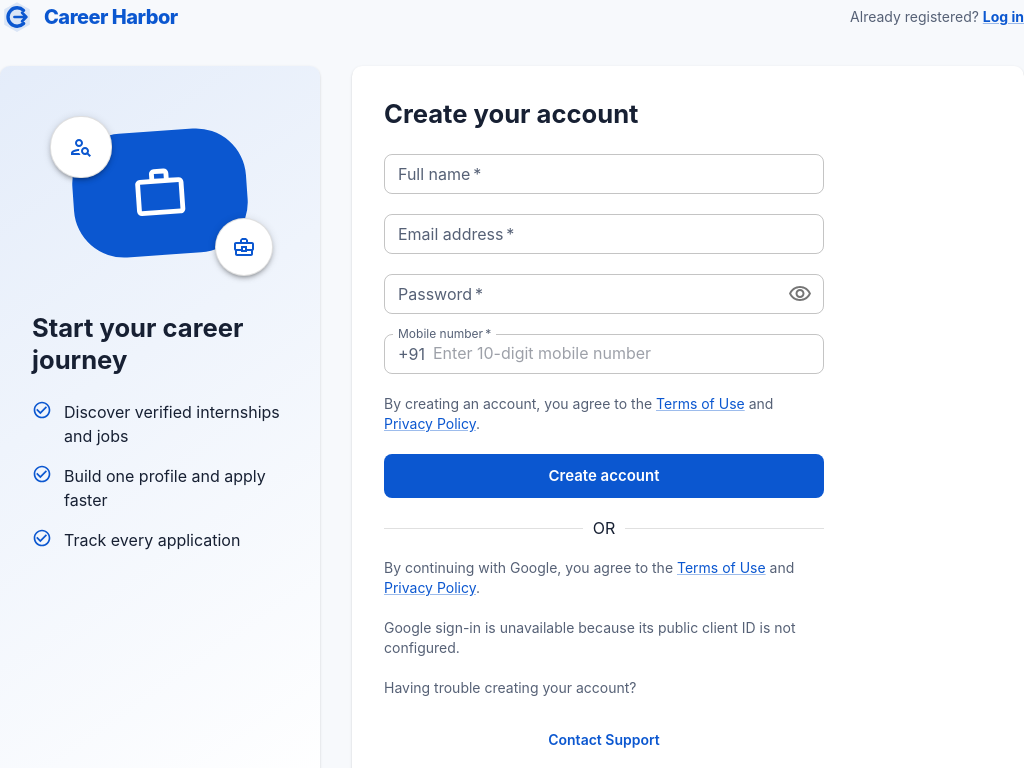
it: Career snapshot account transitions › uses returned email registration authentication, required=true, without a second login
Type "Avery Patel" into the field labelled "Full name *" at (604, 174), box [384, 154, 824, 194]
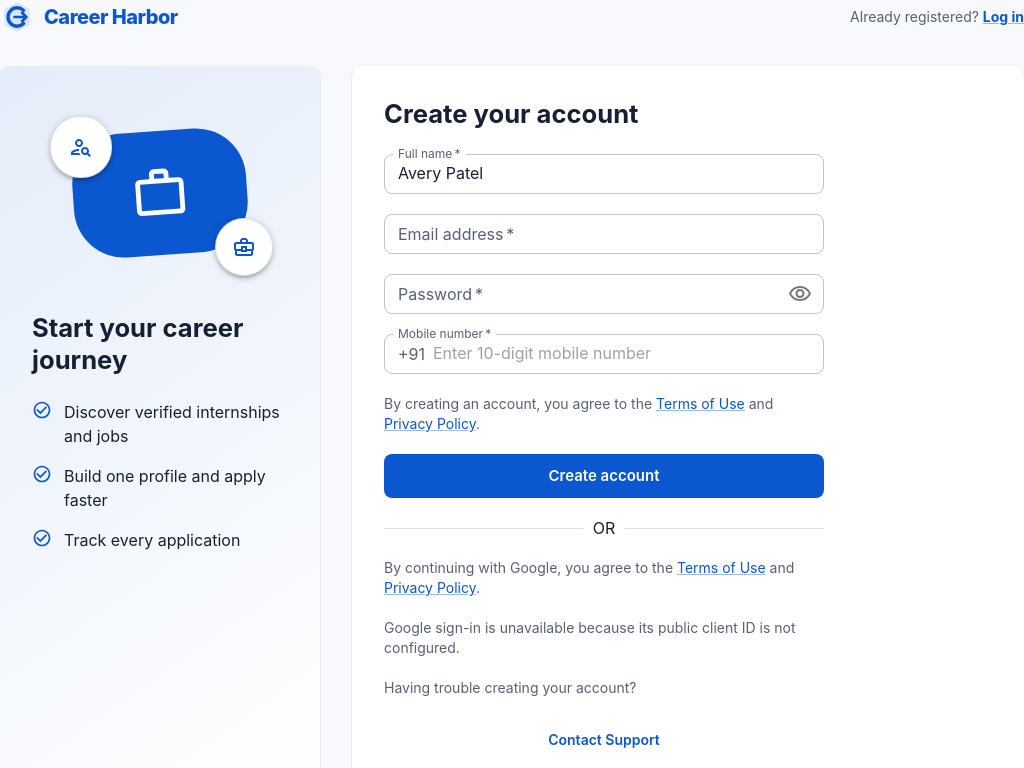
Type "candidate@example.com" into the field labelled "Email address *" at (604, 234), box [384, 214, 824, 254]
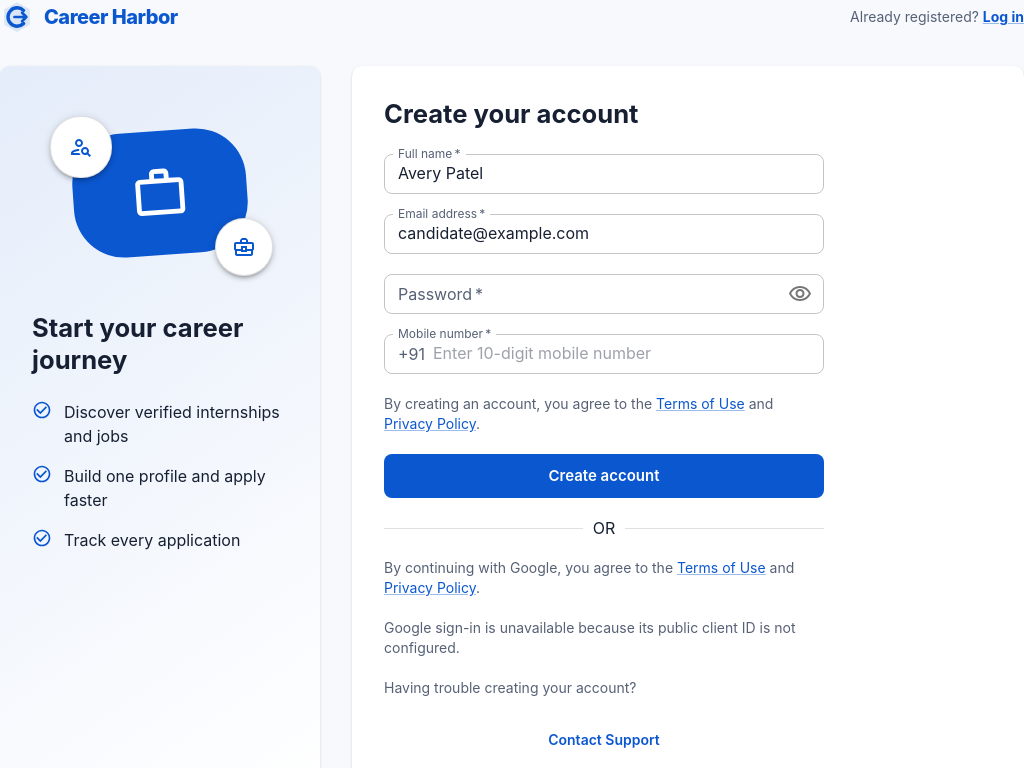
Type "Secure123!" into the password field labelled "Password *" at (577, 294), box [384, 274, 770, 314]
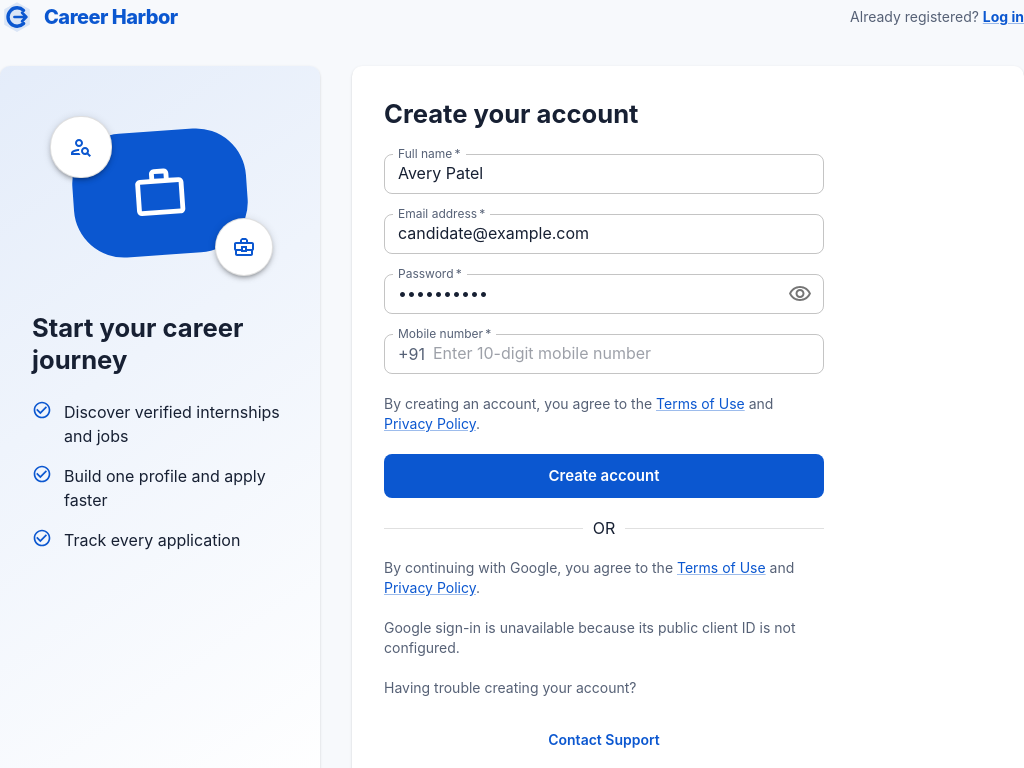
Type "9876543210" into the field labelled "Mobile number *" at (628, 354), box [433, 334, 824, 374]
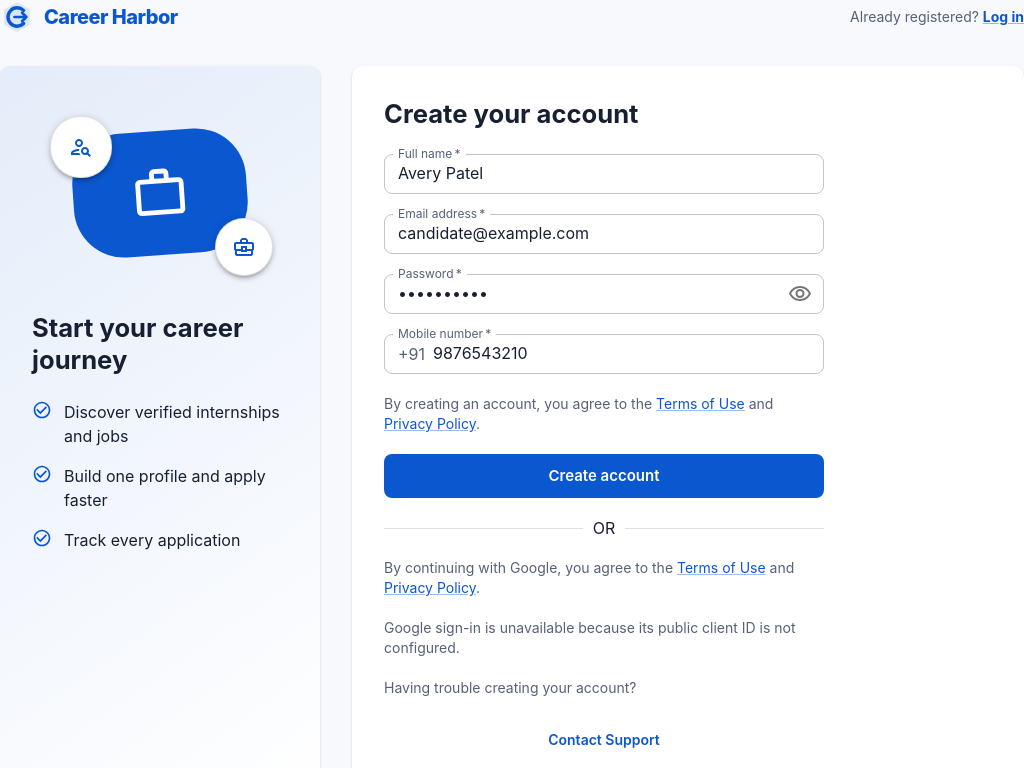
Click the button "Create account" at (604, 476), box [384, 454, 824, 498]
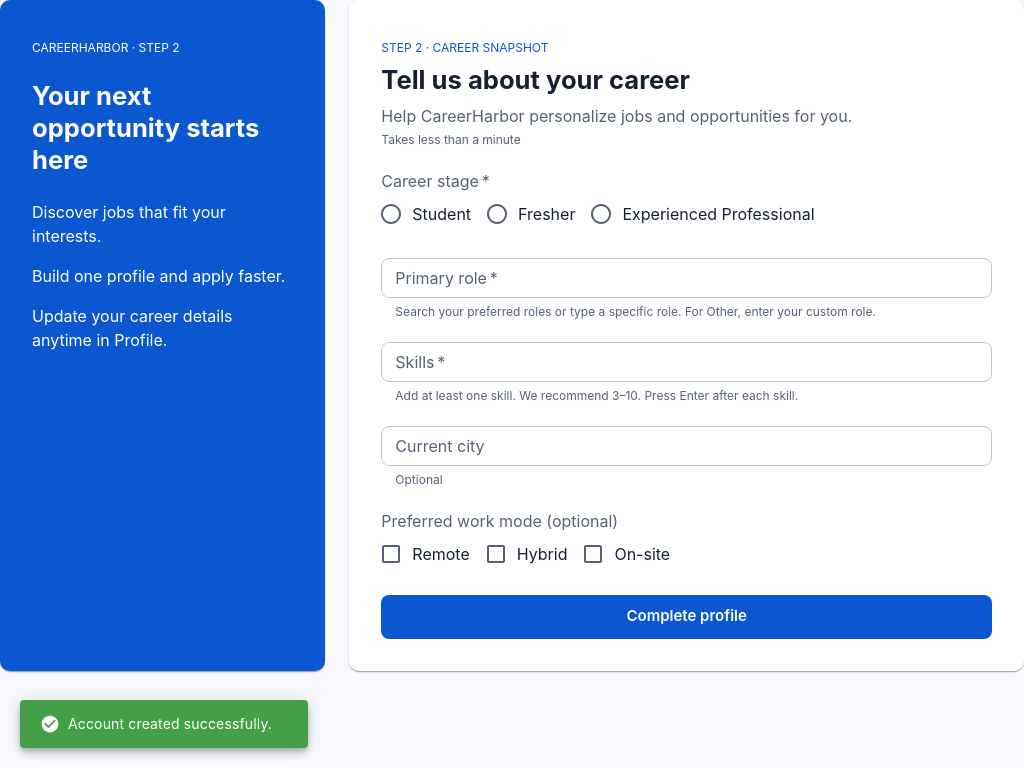
expect the heading "Tell us about your career" is shown: met, box [381, 64, 690, 95]
